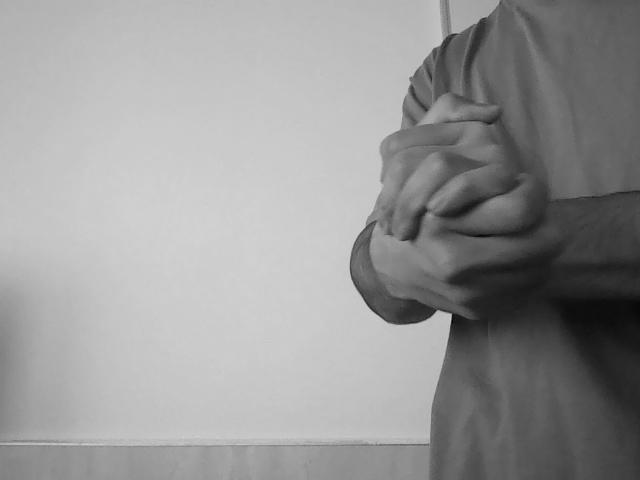friend: (367, 87, 564, 324)
